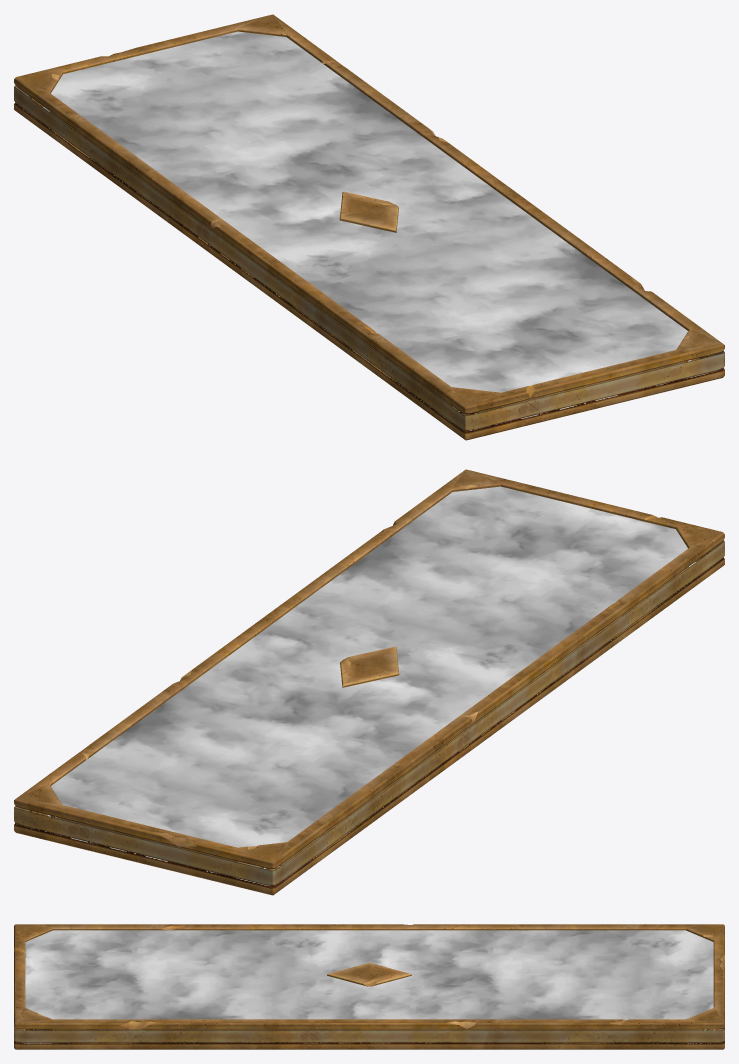
3 views of the same model, one above another, from view 1: azimuth 30°, elevation 25°; view 2: azimuth 150°, elevation 25°; view 3: azimuth 270°, elevation 25° (orthographic). The views are drawn at different scales.
Visible parts, largest first — view 1: SM_AgilityPlatform_2x6_LOD0; view 2: SM_AgilityPlatform_2x6_LOD0; view 3: SM_AgilityPlatform_2x6_LOD0.
Boxes of the visible parts, box(x1,y1,x2,y2) form: SM_AgilityPlatform_2x6_LOD0: box(14, 14, 724, 440); SM_AgilityPlatform_2x6_LOD0: box(14, 469, 724, 895); SM_AgilityPlatform_2x6_LOD0: box(14, 924, 724, 1049).
Size of the model in its own units: 2 by 0.2501 by 6.
Materials: 2 (2 with a texture image).
